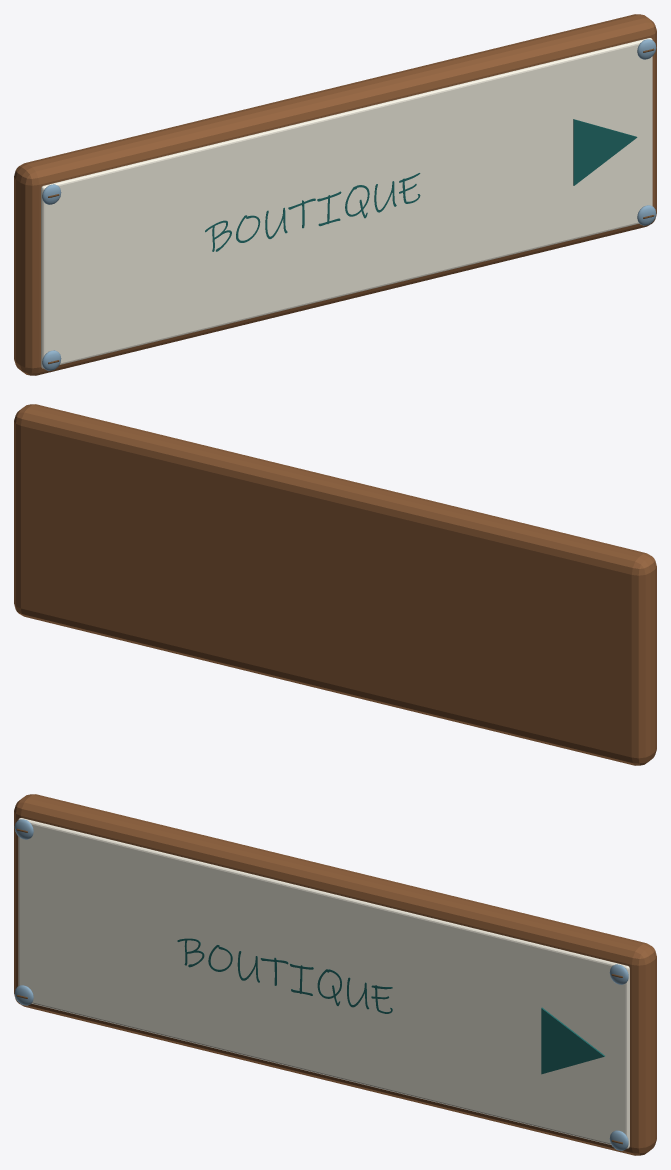
Rendered from entry_sign.glb.
3 renders of one model, top to bottom at view 1: azimuth 30°, elevation 25°; view 2: azimuth 150°, elevation 25°; view 3: azimuth 330°, elevation 25°, orthographic.
Parts seen in each view (by area): view 1: Sign_cream_face, Sign_timber, Direction_arrow, Flat_sign; view 2: Sign_timber; view 3: Sign_cream_face, Sign_timber, Direction_arrow, Flat_sign.
Boxes of the visible parts, box(x1,y1,x2,y2) form: Sign_cream_face: box(41, 38, 652, 368); Sign_timber: box(14, 14, 656, 375); Direction_arrow: box(573, 119, 637, 185); Flat_sign: box(205, 173, 420, 251); Sign_timber: box(14, 404, 656, 765); Sign_cream_face: box(18, 818, 629, 1148); Sign_timber: box(14, 794, 656, 1155); Direction_arrow: box(541, 1007, 604, 1074); Flat_sign: box(177, 938, 392, 1013).
Size of the model in its own units: 0.8 by 0.25 by 0.056.
